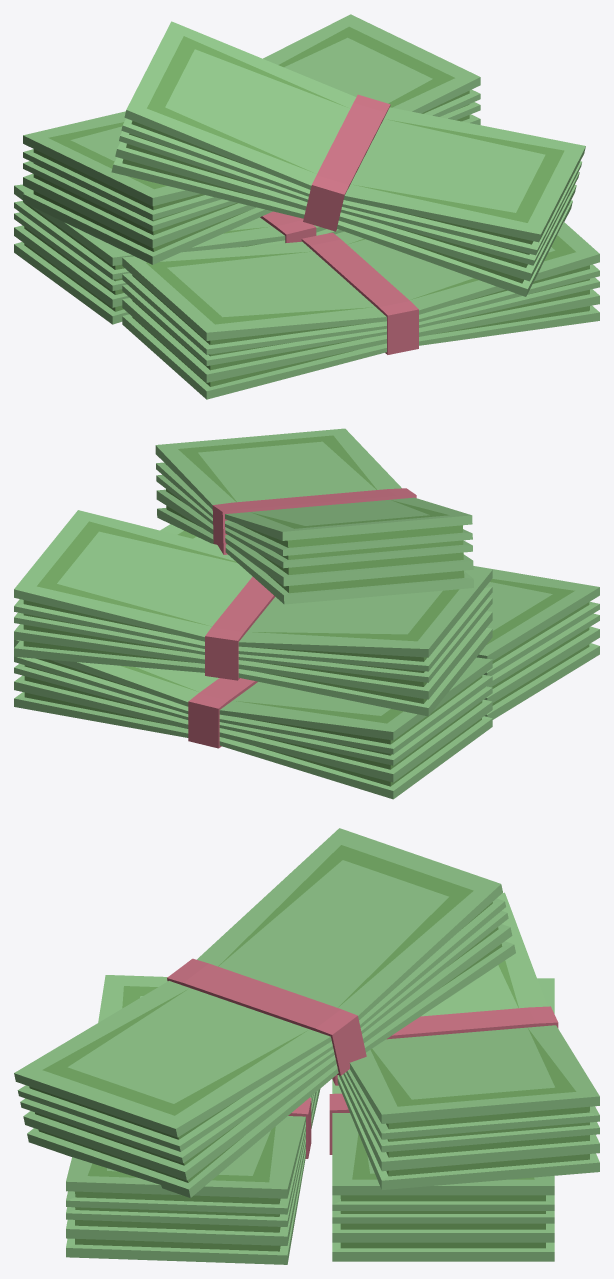
The model's file is money.glb.
3 views of the same model, one above another, from view 1: azimuth 30°, elevation 25°; view 2: azimuth 150°, elevation 25°; view 3: azimuth 270°, elevation 25° (orthographic). The views are drawn at different scales.
Parts seen in each view (by area): view 1: Cash1, Cash, Cash2, Cash3; view 2: Cash2, Cash1, Cash3, Cash; view 3: Cash1, Cash2, Cash, Cash3.
Part boxes in pixels (x1,y1,x2,y2): Cash1: (111,21,585,296); Cash: (122,222,599,399); Cash2: (23,14,480,264); Cash3: (14,184,344,324); Cash2: (14,510,492,716); Cash1: (155,428,473,604); Cash3: (14,640,492,799); Cash: (160,524,599,719); Cash1: (14,828,515,1197); Cash2: (332,892,599,1189); Cash: (66,975,320,1264); Cash3: (329,978,554,1261).
Bounding box in the file's own units: 1.05 × 0.5185 × 1.13.
